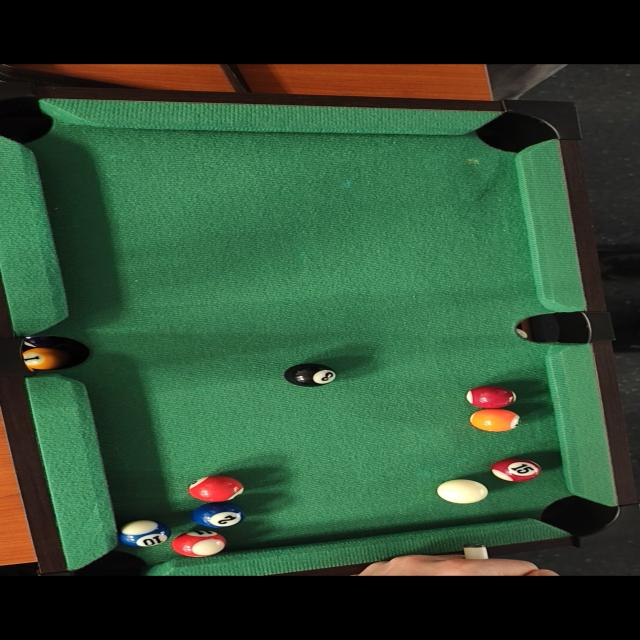cue ball: (437, 478, 495, 503)
other: (110, 517, 172, 550), (462, 408, 528, 434), (187, 474, 250, 501), (486, 456, 546, 482), (192, 501, 246, 529), (283, 362, 343, 387), (462, 383, 518, 409), (172, 532, 228, 558)
